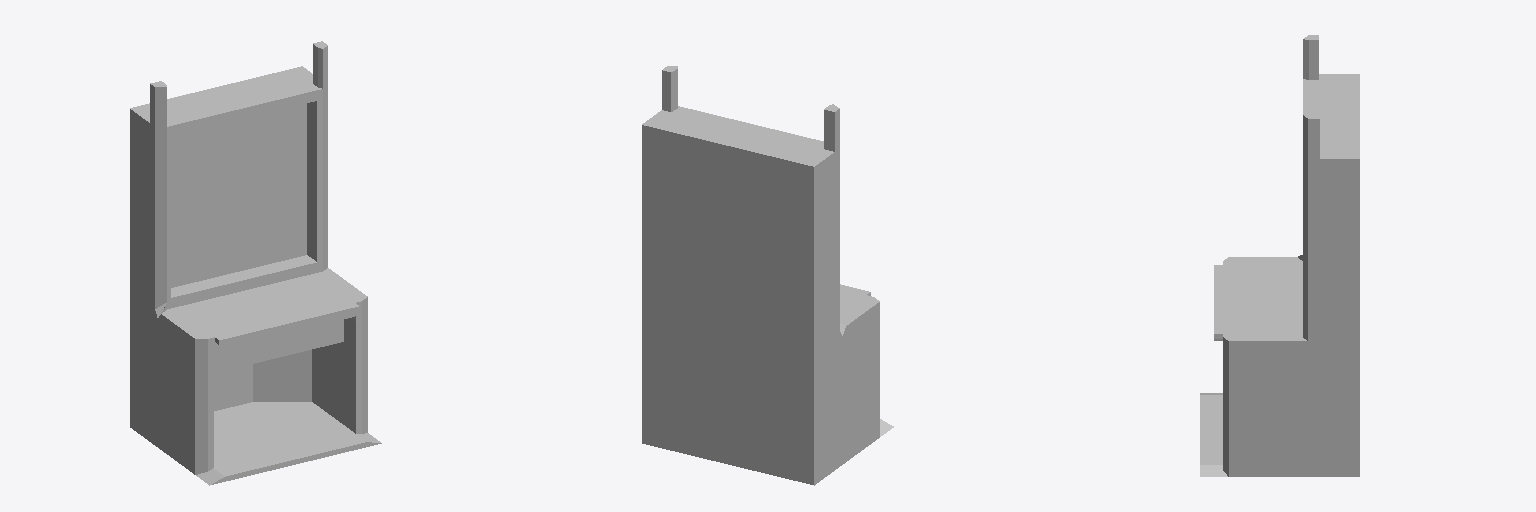
The model's file is Fireplace.obj.
3 views of the same model, side by side, from view 1: azimuth 30°, elevation 25°; view 2: azimuth 150°, elevation 25°; view 3: azimuth 270°, elevation 25° (orthographic).
Visible parts, largest first — view 1: Cube; view 2: Cube; view 3: Cube.
Part boxes in pixels (left/top/right/bottom): Cube: left=130, top=41, right=381, bottom=485; Cube: left=642, top=66, right=893, bottom=485; Cube: left=1200, top=35, right=1359, bottom=476.
Bounding box in the file's own units: 11.66 × 23.12 × 9.36.